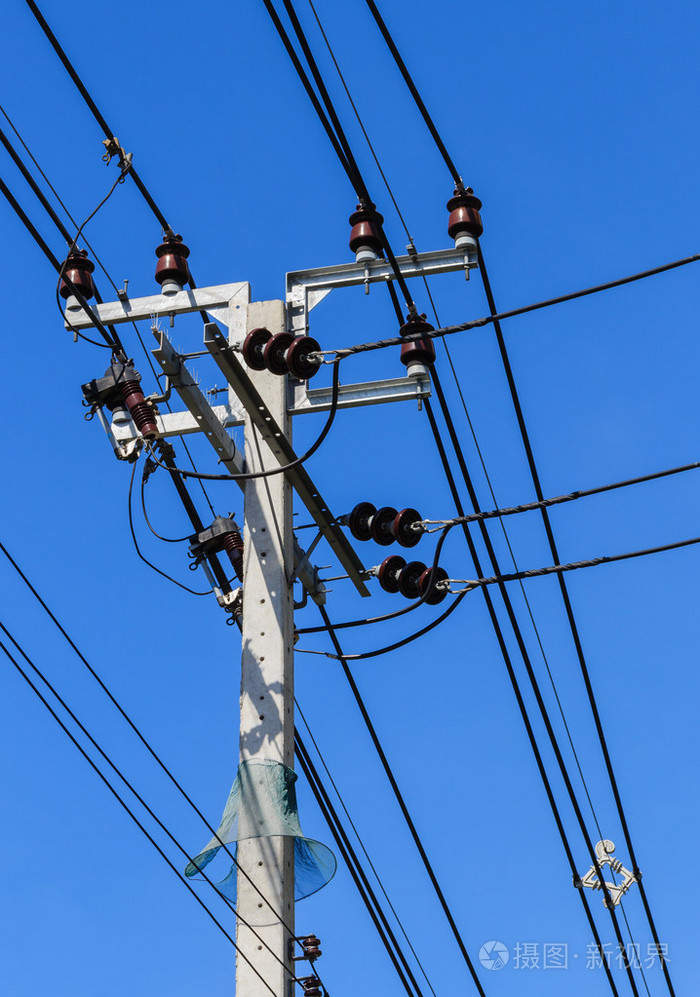insulator: (240, 330, 324, 377), (344, 498, 419, 547), (379, 551, 446, 603)
